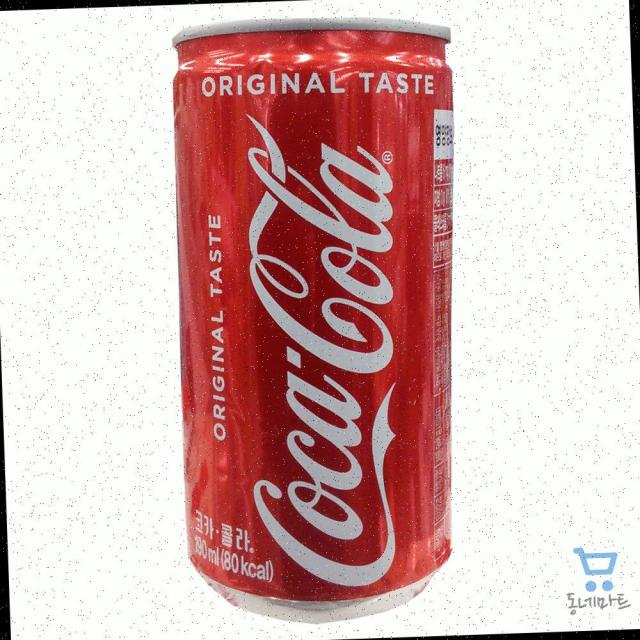coca-cola: (166, 8, 476, 632)
